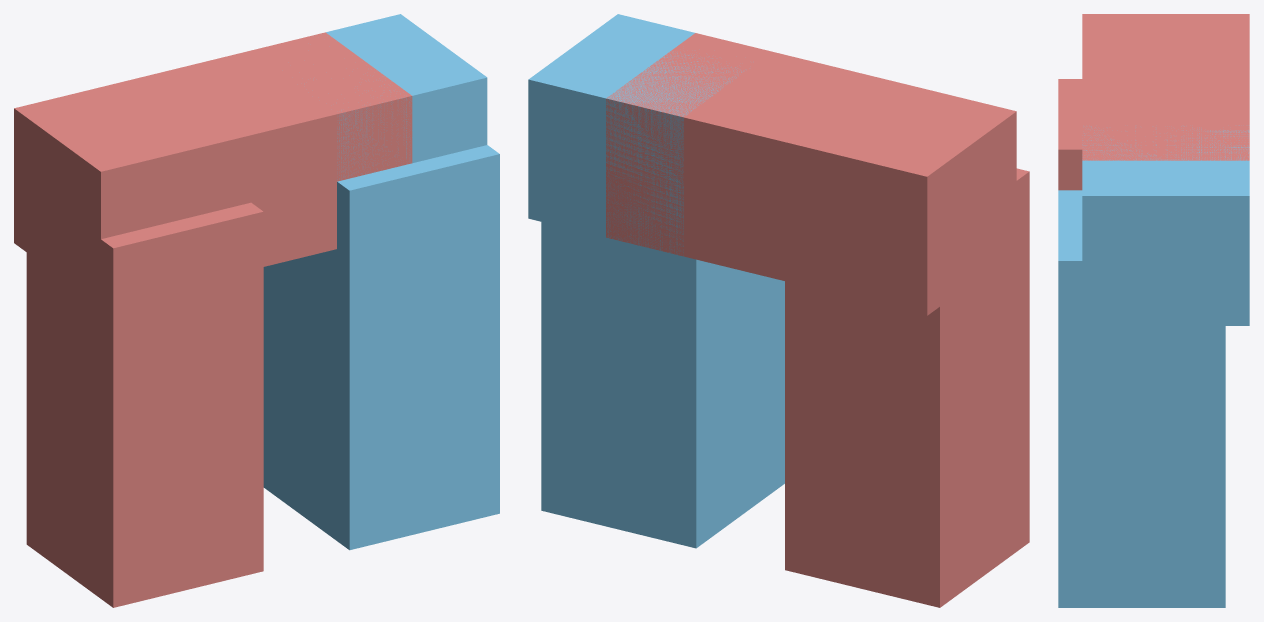
The model's file is SM_Item_Magnet_01.glb.
3 renders of one model, left to right at view 1: azimuth 30°, elevation 25°; view 2: azimuth 150°, elevation 25°; view 3: azimuth 270°, elevation 25°, orthographic. The views are drawn at different scales.
Parts seen in each view (by area): view 1: SM_Magnet_LegL, SM_Magnet_LegR, SM_Magnet_Bridge, SM_Magnet_TopL, SM_Magnet_TopR; view 2: SM_Magnet_LegL, SM_Magnet_LegR, SM_Magnet_Bridge, SM_Magnet_TopL, SM_Magnet_TopR; view 3: SM_Magnet_LegR, SM_Magnet_TopR, SM_Magnet_Bridge, SM_Magnet_TopL, SM_Magnet_LegL.
Part boxes in pixels (bbox=[...]): SM_Magnet_LegL: bbox=[26, 185, 263, 607]; SM_Magnet_LegR: bbox=[263, 145, 499, 550]; SM_Magnet_Bridge: bbox=[90, 32, 412, 266]; SM_Magnet_TopL: bbox=[14, 77, 250, 304]; SM_Magnet_TopR: bbox=[326, 14, 487, 179]; SM_Magnet_LegL: bbox=[785, 168, 1029, 607]; SM_Magnet_LegR: bbox=[541, 222, 784, 548]; SM_Magnet_Bridge: bbox=[606, 33, 938, 296]; SM_Magnet_TopL: bbox=[772, 92, 1016, 315]; SM_Magnet_TopR: bbox=[528, 14, 743, 255]; SM_Magnet_LegR: bbox=[1058, 190, 1225, 607]; SM_Magnet_TopR: bbox=[1082, 125, 1249, 325]; SM_Magnet_Bridge: bbox=[1082, 49, 1249, 160]; SM_Magnet_TopL: bbox=[1082, 14, 1249, 84]; SM_Magnet_LegL: bbox=[1058, 79, 1082, 190].
Bounding box in the file's own units: 0.36 × 0.38 × 0.16.
